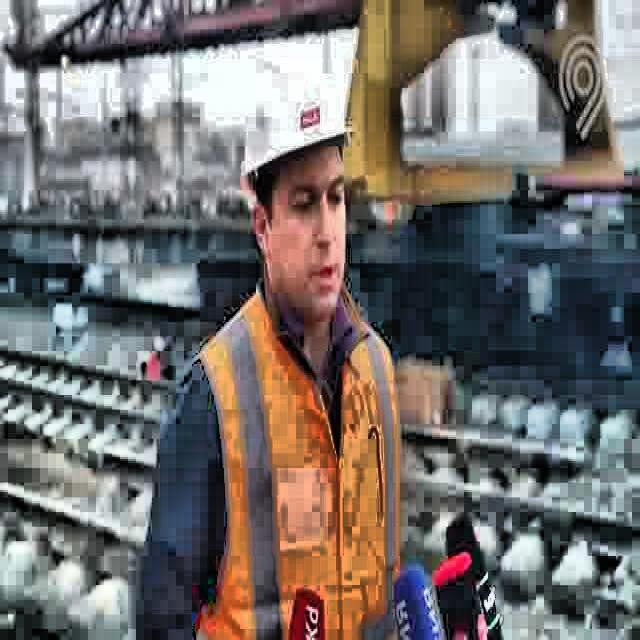safety_helmet: (240, 45, 356, 182)
safety_jacket: (178, 267, 406, 640)
